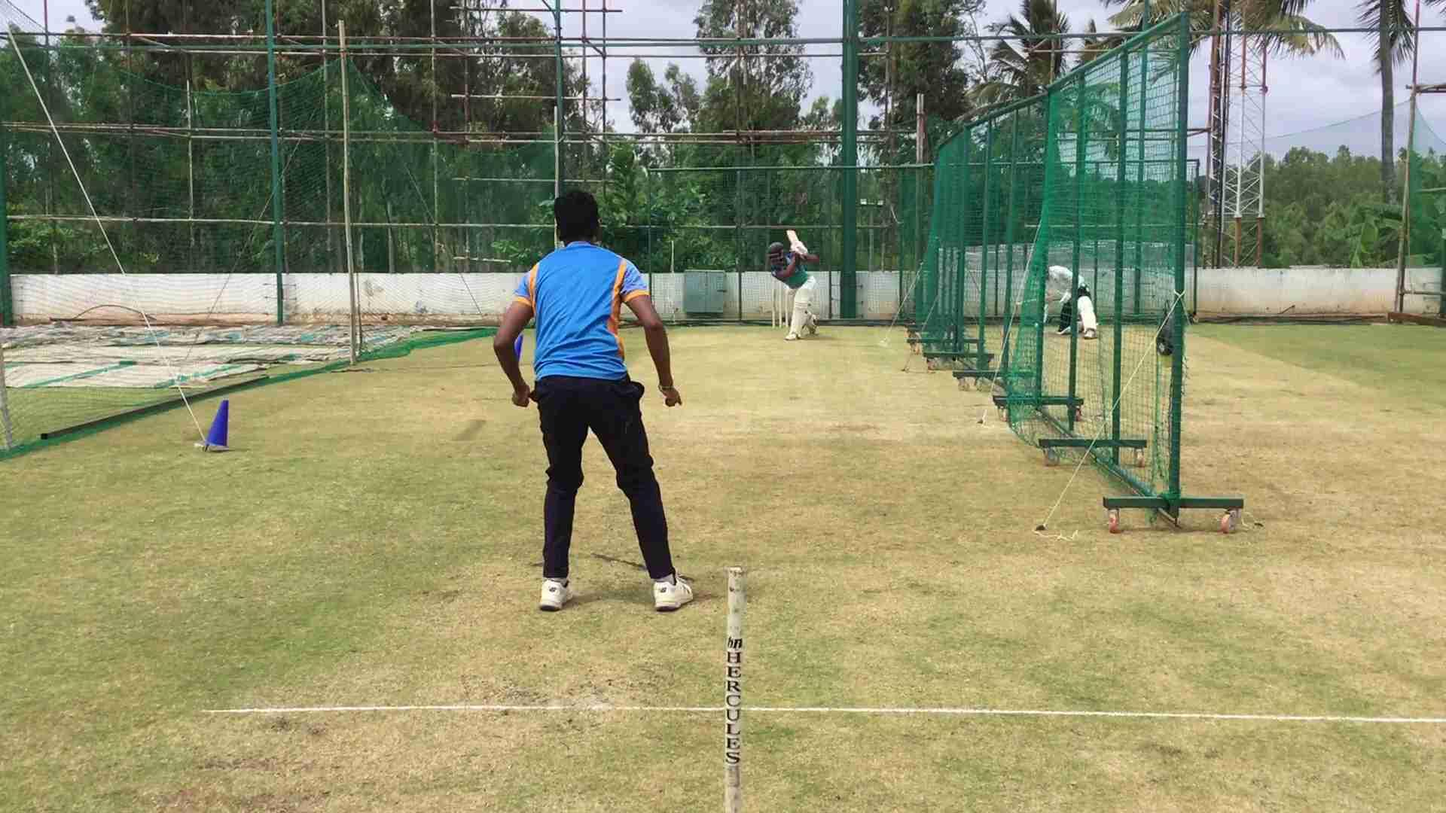batsman: (757, 230, 827, 346)
